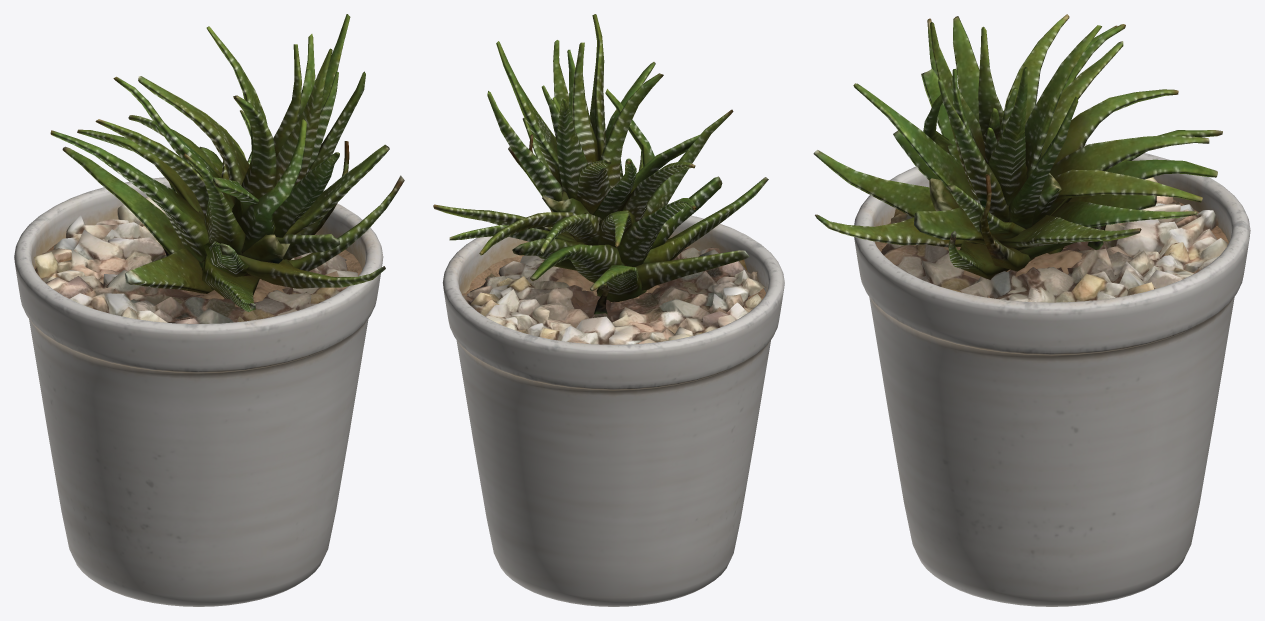
Rendered from potted_plant_04_1k.gltf.
The picture shows the model from 3 angles, left to right: view 1: azimuth 30°, elevation 25°; view 2: azimuth 150°, elevation 25°; view 3: azimuth 270°, elevation 25°; orthographic projection. The views are drawn at different scales.
Visible parts, largest first — view 1: potted_plant_04_pot, potted_plant_04_plant, potted_plant_04_ground, potted_plant_04_dirt; view 2: potted_plant_04_pot, potted_plant_04_plant, potted_plant_04_ground, potted_plant_04_dirt; view 3: potted_plant_04_pot, potted_plant_04_plant, potted_plant_04_ground, potted_plant_04_dirt.
Boxes of the visible parts, bbox=[...] form: potted_plant_04_pot: bbox=[14, 177, 383, 606]; potted_plant_04_plant: bbox=[50, 14, 404, 311]; potted_plant_04_ground: bbox=[34, 196, 357, 323]; potted_plant_04_dirt: bbox=[34, 238, 362, 307]; potted_plant_04_pot: bbox=[442, 215, 784, 606]; potted_plant_04_plant: bbox=[433, 14, 768, 314]; potted_plant_04_ground: bbox=[463, 247, 765, 344]; potted_plant_04_dirt: bbox=[462, 247, 765, 306]; potted_plant_04_pot: bbox=[854, 144, 1250, 606]; potted_plant_04_plant: bbox=[813, 14, 1222, 279]; potted_plant_04_ground: bbox=[881, 177, 1227, 302]; potted_plant_04_dirt: bbox=[875, 200, 1228, 297].
Size of the model in its own units: 0.1679 by 0.2675 by 0.1848.
1 material, 1 textured.
